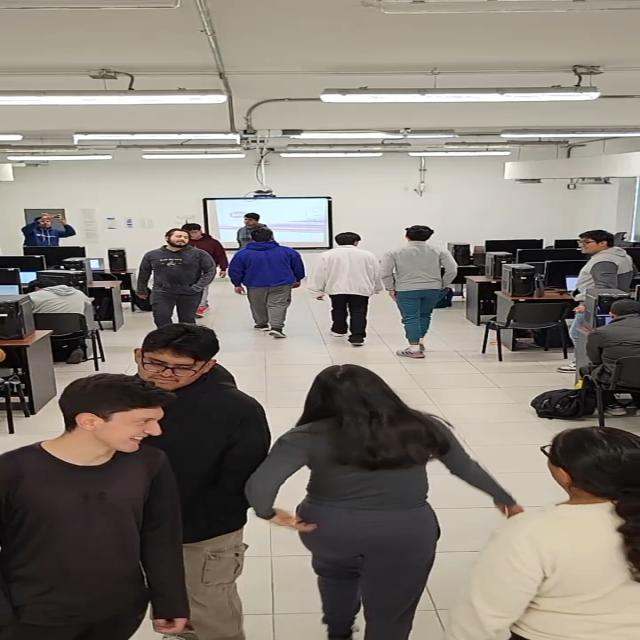Persona: (255, 364, 459, 634), (6, 374, 188, 634), (122, 313, 262, 559), (488, 423, 640, 639), (232, 227, 304, 338), (384, 228, 445, 358), (142, 230, 218, 326), (317, 235, 380, 349), (567, 233, 625, 302), (22, 211, 78, 250), (186, 224, 222, 248), (241, 210, 269, 234)
